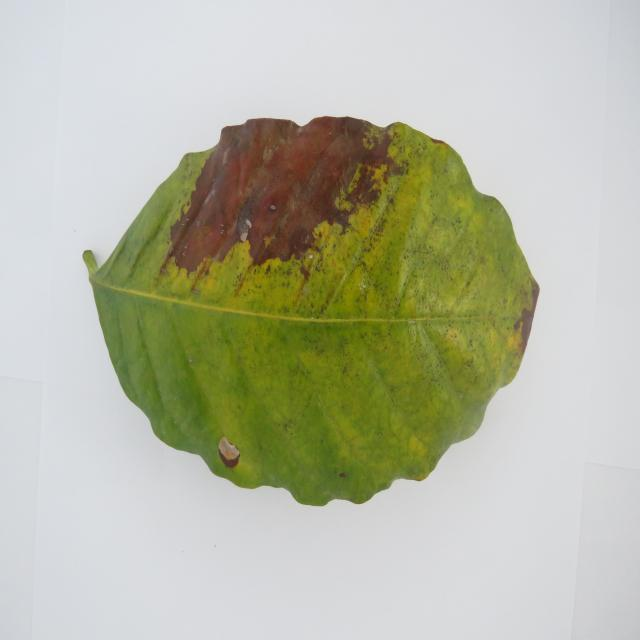DeficienciaNutricional-Potasio: (84, 117, 539, 505)
